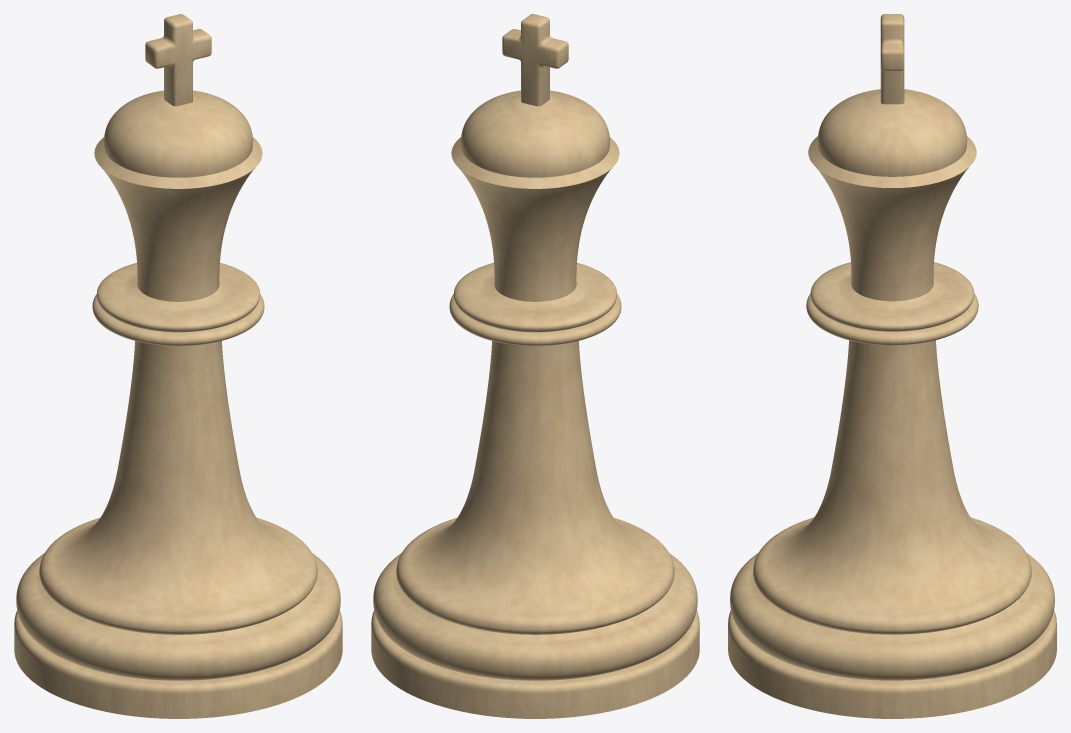
The model's file is koenig_weiss.glb.
3 renders of one model, left to right at view 1: azimuth 30°, elevation 25°; view 2: azimuth 150°, elevation 25°; view 3: azimuth 270°, elevation 25°, orthographic.
Parts seen in each view (by area): view 1: koenig_weiss; view 2: koenig_weiss; view 3: koenig_weiss.
Part boxes in pixels (x1,y1,x2,y2): koenig_weiss: [14, 14, 342, 718]; koenig_weiss: [371, 14, 699, 718]; koenig_weiss: [728, 14, 1056, 718].
Bounding box in the file's own units: 0.84 × 1.78 × 0.84.
Materials: 1 (1 with a texture image).
